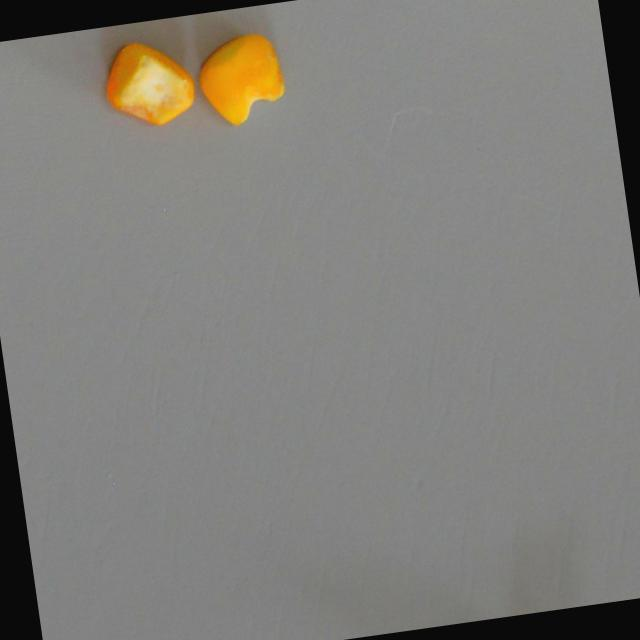no_canjicado: (193, 30, 290, 129)
pelicula: (99, 32, 199, 131)
